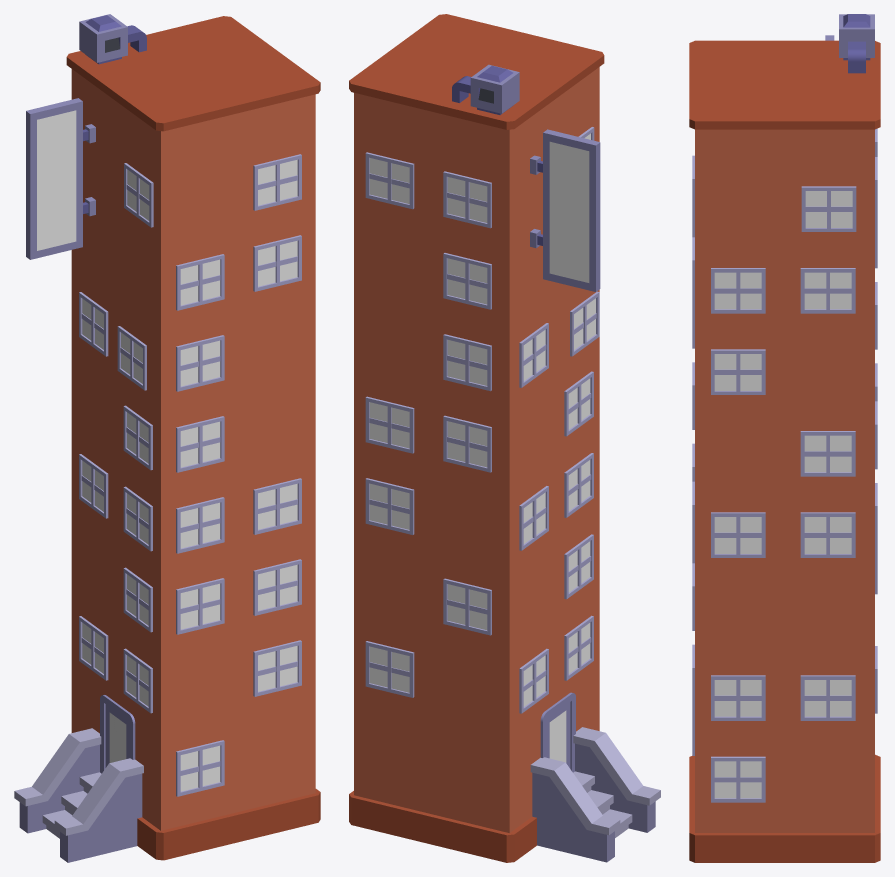
File: Big_house_.fbx
The picture shows the model from 3 angles, left to right: view 1: azimuth 30°, elevation 25°; view 2: azimuth 150°, elevation 25°; view 3: azimuth 270°, elevation 25°; orthographic projection.
Parts seen in each view (by area): view 1: mergedBlocks; view 2: mergedBlocks; view 3: mergedBlocks.
Part boxes in pixels (<box>): mergedBlocks: <box>14,14,320,862</box>; mergedBlocks: <box>349,14,660,862</box>; mergedBlocks: <box>689,14,880,862</box>.
Bounding box in the file's own units: 30.7 × 95.5 × 21.25.
